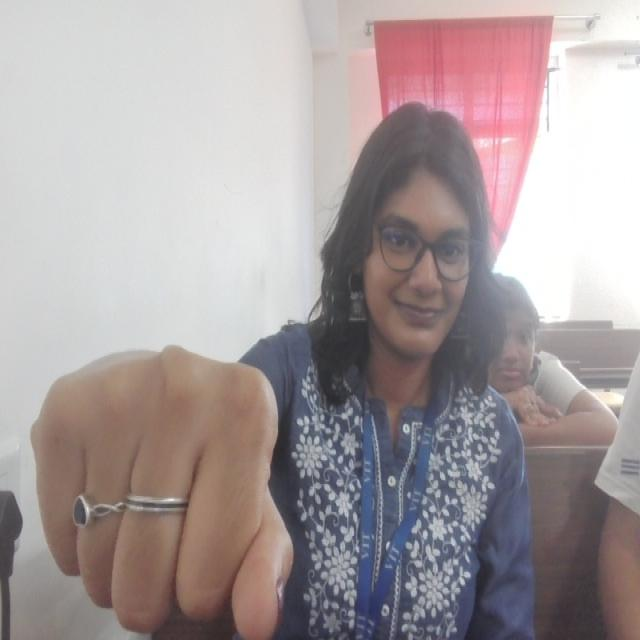yes: (18, 332, 296, 639)
